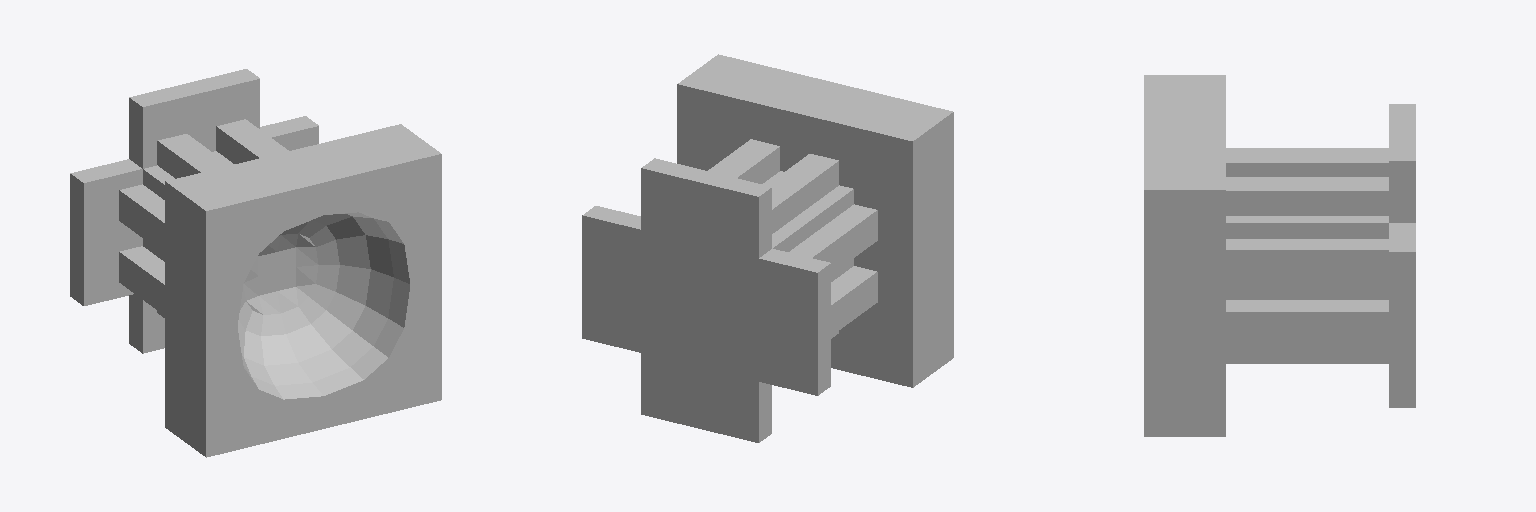
File: BlockAltarPagan.obj
3 renders of one model, left to right at view 1: azimuth 30°, elevation 25°; view 2: azimuth 150°, elevation 25°; view 3: azimuth 270°, elevation 25°, orthographic.
Parts seen in each view (by area): view 1: Altar_1_Cube.005; view 2: Altar_1_Cube.005; view 3: Altar_1_Cube.005.
Part boxes in pixels (left/top/right/bottom): Altar_1_Cube.005: left=70, top=69, right=441, bottom=457; Altar_1_Cube.005: left=582, top=54, right=953, bottom=442; Altar_1_Cube.005: left=1144, top=75, right=1415, bottom=436.
Bounding box in the file's own units: 2 × 2 × 2.